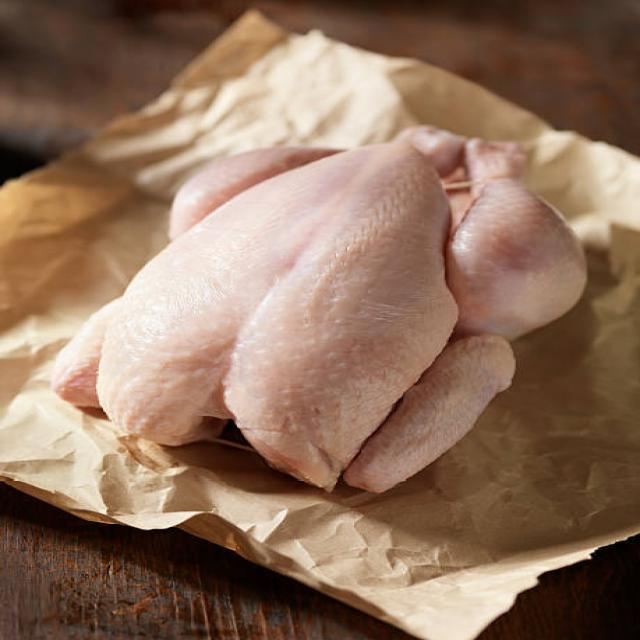Chicken: (41, 116, 592, 496)
